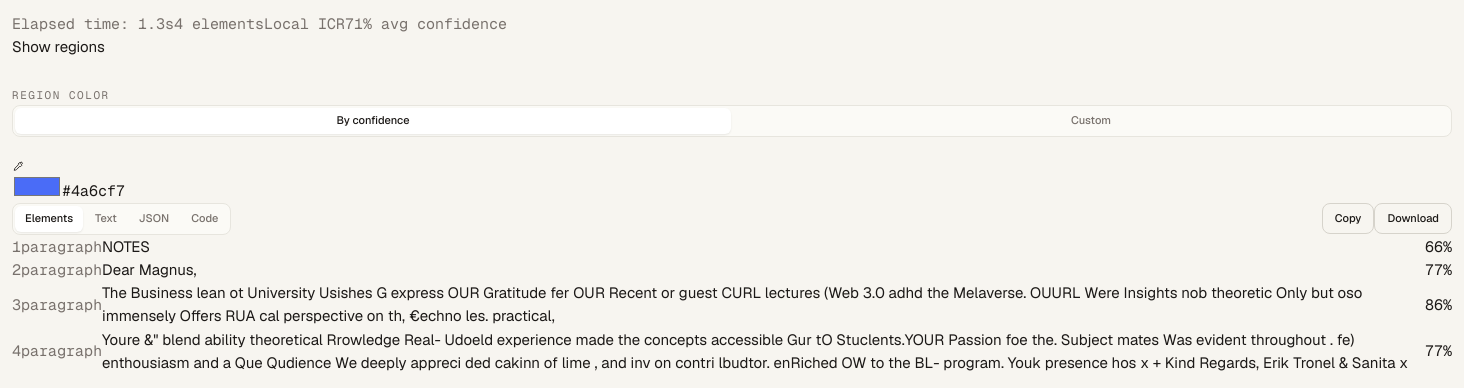
a backend without the code key still renders the Code view
Click the button "Code".
click(205, 218)  # box 181,206 -> 228,232
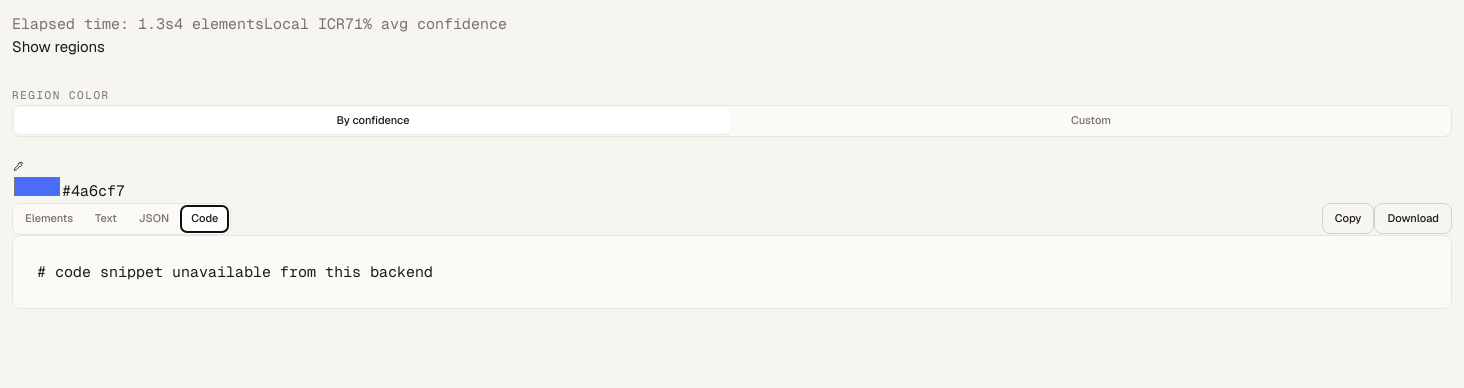
Expected: the text "# code snippet unavailable from this backend" is shown, 12,234 -> 1452,308
